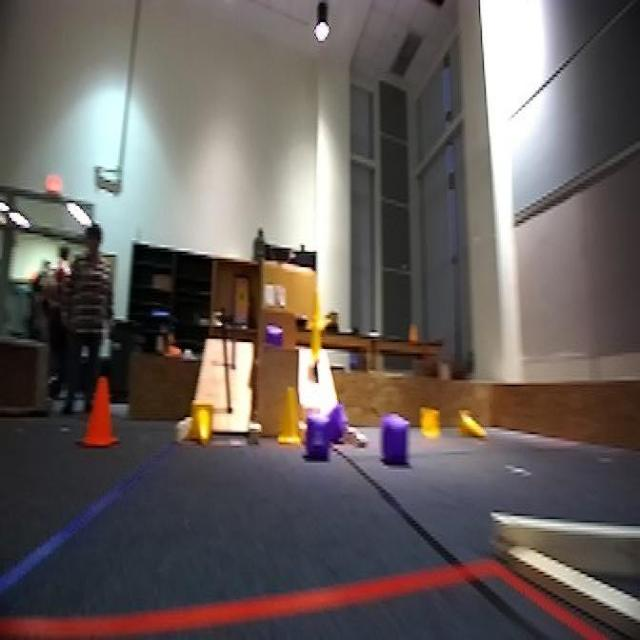frc_cone: (278, 383, 312, 453), (186, 403, 215, 448), (306, 317, 328, 364), (454, 410, 486, 441), (417, 403, 441, 441), (311, 288, 326, 334)
frc_cube: (299, 412, 330, 454), (379, 422, 410, 463), (328, 404, 344, 439), (263, 329, 284, 347)
